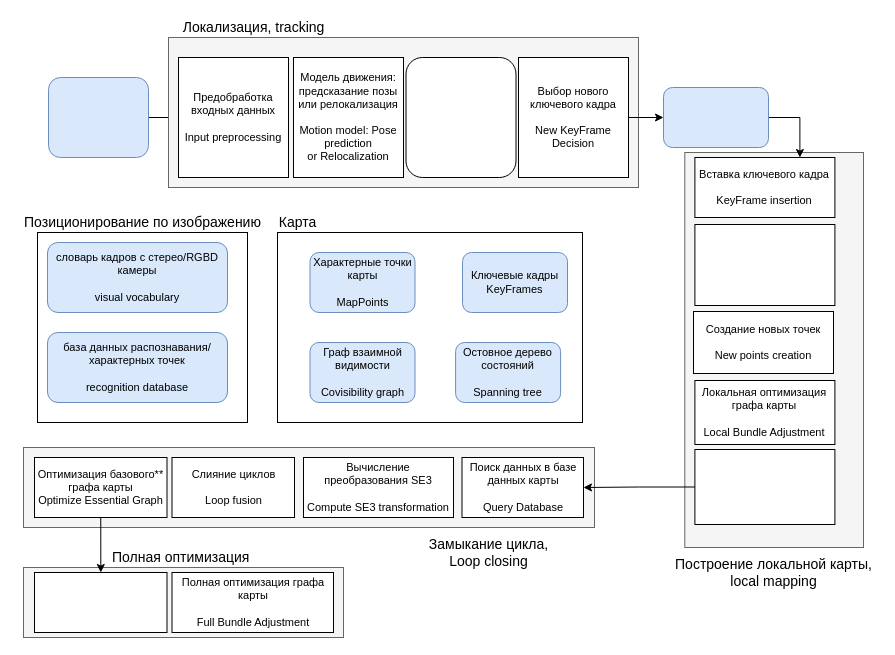
Some shapes in this 895 by 655 pixel diagram are drawn without their labels. The shapes that lost their labels are listed below. From the top down, each one's centre as x and y in pixels, then its label:
point 98,117: кадр с стерео/RGBD камеры
point 460,117: Траектория, Локальная карта Track, Local map
point 715,117: Ключевой кадр KeyFrame
point 764,265: Отбор ключевых точек карты для дальнейшего анализа Culling recent map points
point 764,486: Отбор локальных ключевых кадров Local KeyFrames culling
point 100,602: Обновление карты Map update
